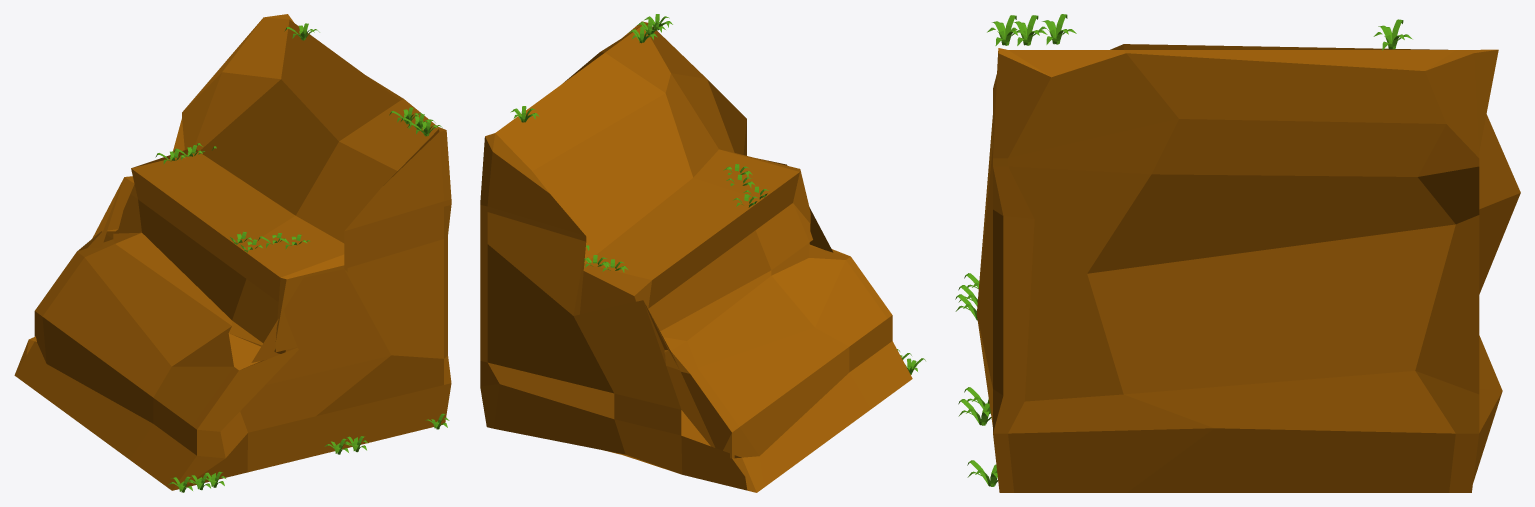
File: block4.obj
The picture shows the model from 3 angles, left to right: view 1: azimuth 30°, elevation 25°; view 2: azimuth 150°, elevation 25°; view 3: azimuth 270°, elevation 25°; orthographic projection. The views are drawn at different scales.
Visible parts, largest first — view 1: Plane.001_Plane.002; view 2: Plane.001_Plane.002; view 3: Plane.001_Plane.002.
Part boxes in pixels (x1,y1,x2,y2): Plane.001_Plane.002: [14, 14, 451, 492]; Plane.001_Plane.002: [480, 14, 925, 492]; Plane.001_Plane.002: [955, 14, 1520, 492].
Size of the model in its own units: 4.17 by 4.14 by 4.66.
